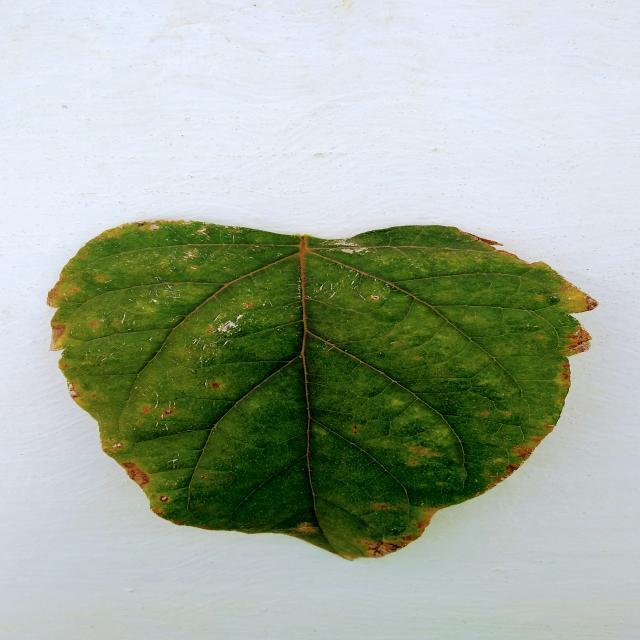leaf: (46, 217, 597, 561)
